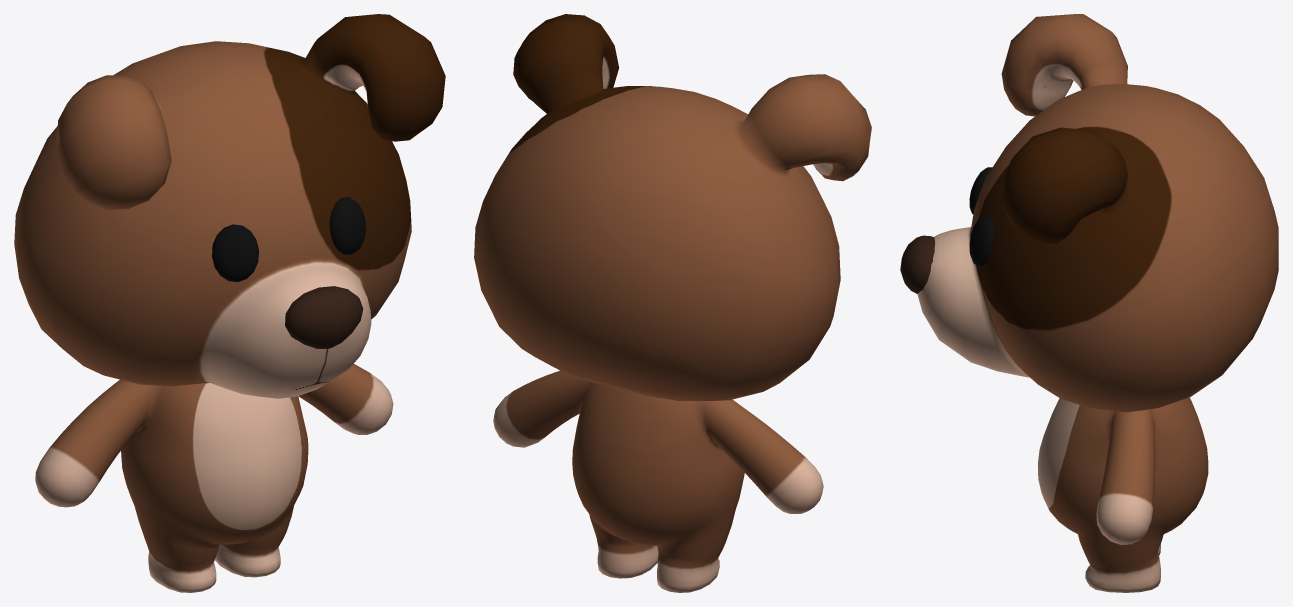
Rendered from dog.glb.
3 views of the same model, side by side, from view 1: azimuth 30°, elevation 25°; view 2: azimuth 150°, elevation 25°; view 3: azimuth 270°, elevation 25° (orthographic). The views are drawn at different scales.
Parts seen in each view (by area): view 1: Dog; view 2: Dog; view 3: Dog.
Part boxes in pixels (x1=…): Dog: x1=14, y1=14, x2=445, y2=592; Dog: x1=474, y1=14, x2=871, y2=592; Dog: x1=900, y1=14, x2=1278, y2=592.
Bounding box in the file's own units: 78.73 × 109 × 76.12.
Materials: 1 (1 with a texture image).
